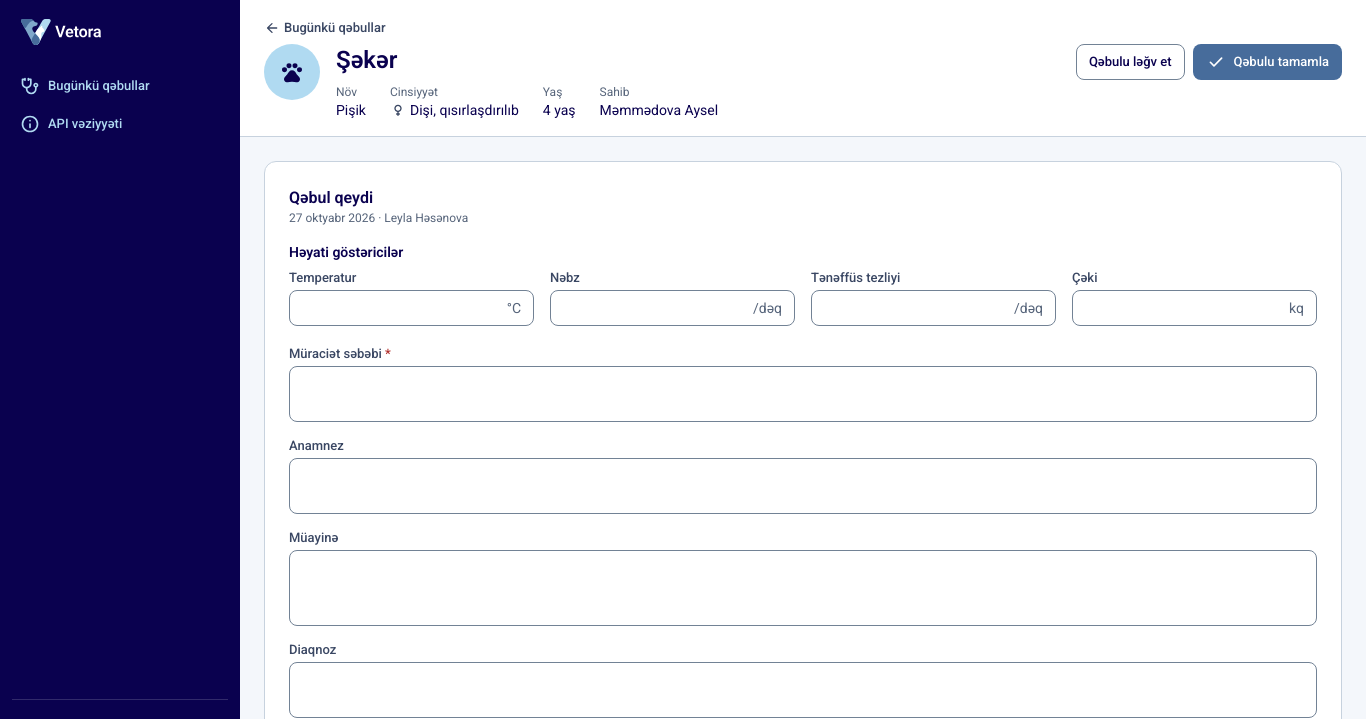
it: the invoice card on the visit page (#25, seam 3) › Cancel visit with an issued invoice is refused, and the page says so and stays
Click the button "Qəbulu ləğv et" at (1130, 62), box x1=1076 y1=44 x2=1185 y2=80
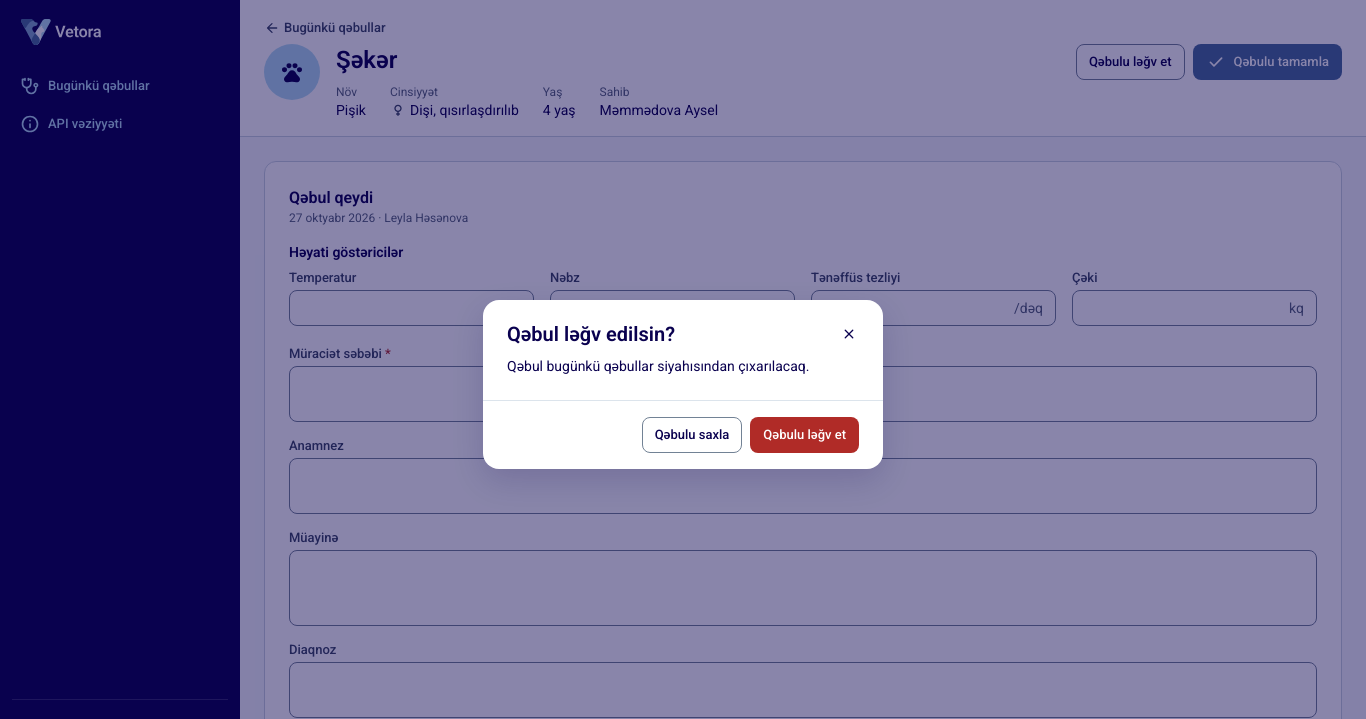
Click the button "Qəbulu ləğv et" at (805, 434), box x1=750 y1=416 x2=859 y2=452
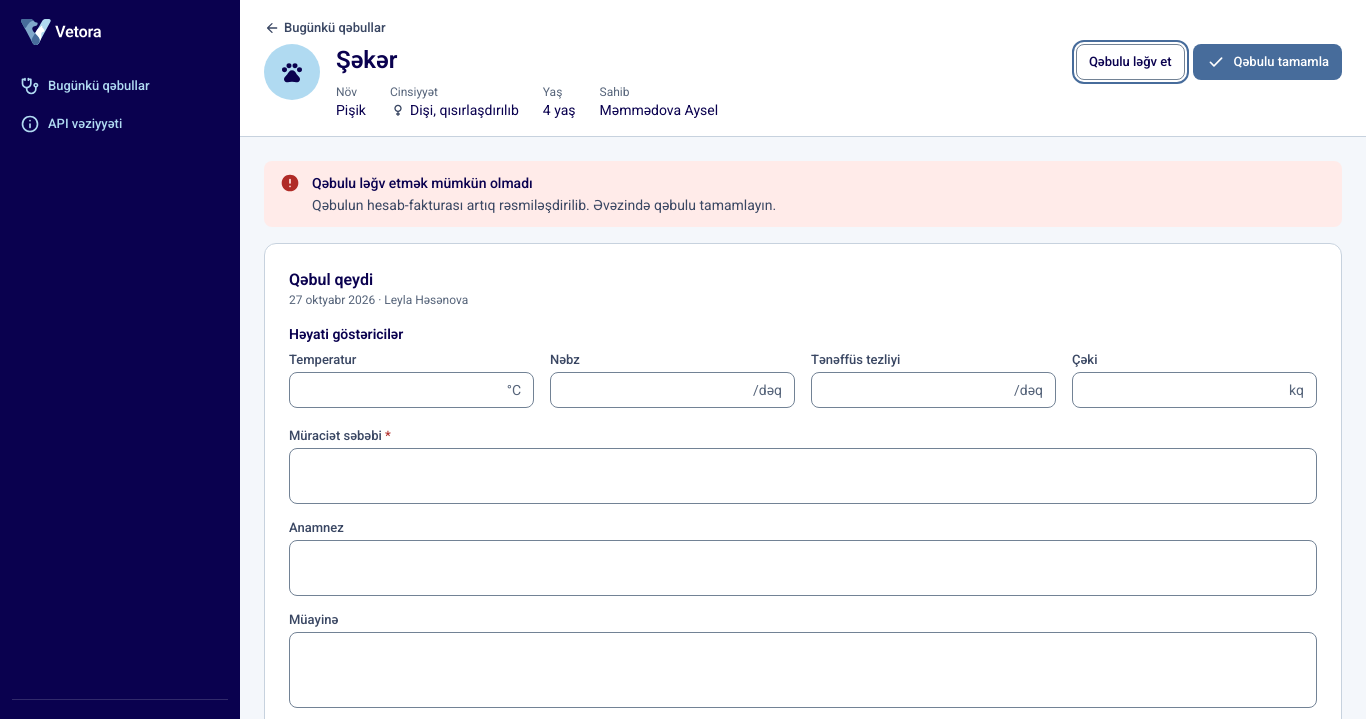
Now the text "Qəbulu ləğv etmək mümkün olmadı" is shown, box x1=312 y1=175 x2=533 y2=191
